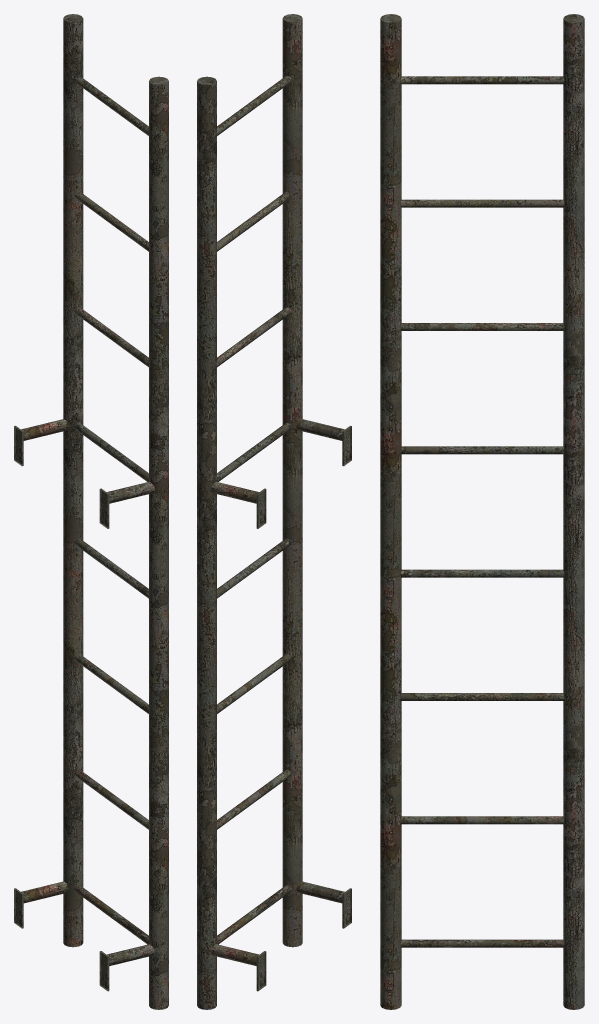
The model's file is metalladderbarge.glb.
3 renders of one model, left to right at view 1: azimuth 30°, elevation 25°; view 2: azimuth 150°, elevation 25°; view 3: azimuth 270°, elevation 25°, orthographic. The views are drawn at different scales.
Parts seen in each view (by area): view 1: metalladderbarge; view 2: metalladderbarge; view 3: metalladderbarge.
Boxes of the visible parts, <box> form: metalladderbarge: <box>14,14,168,1009</box>; metalladderbarge: <box>197,14,351,1009</box>; metalladderbarge: <box>380,14,584,1009</box>.
Bounding box in the file's own units: 0.1762 × 2.44 × 0.4572.
1 material, 1 textured.
